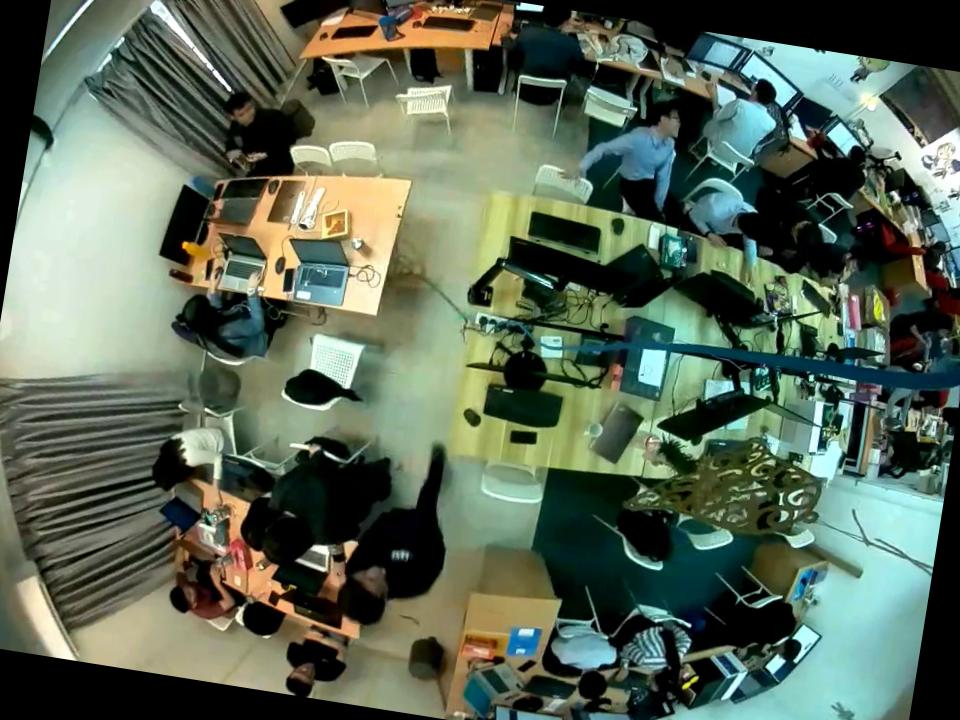employee_tag: (390, 548, 410, 562)
